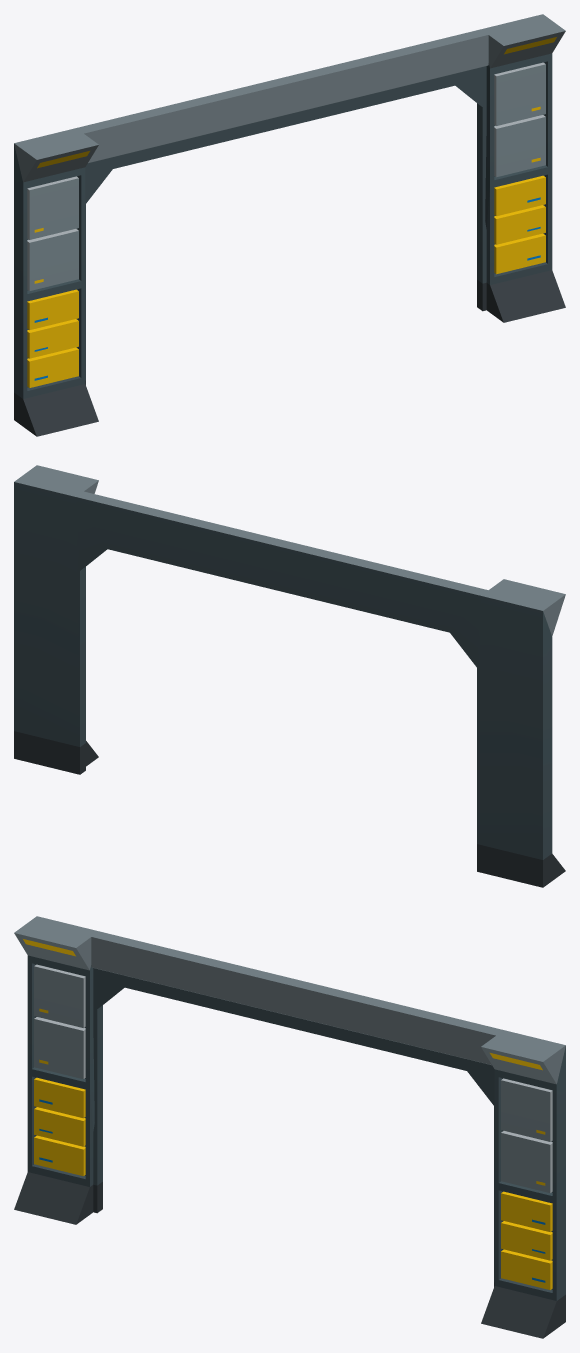
File: Wall_type_C_064.fbx
The picture shows the model from 3 angles, top to bottom: view 1: azimuth 30°, elevation 25°; view 2: azimuth 150°, elevation 25°; view 3: azimuth 330°, elevation 25°; orthographic projection.
Visible parts, largest first — view 1: Wall_type_C_064; view 2: Wall_type_C_064; view 3: Wall_type_C_064.
Part boxes in pixels (<box>): Wall_type_C_064: <box>14,14,565,436</box>; Wall_type_C_064: <box>14,465,565,887</box>; Wall_type_C_064: <box>14,916,565,1338</box>.
Bounding box in the file's own units: 800 × 60 × 400.
